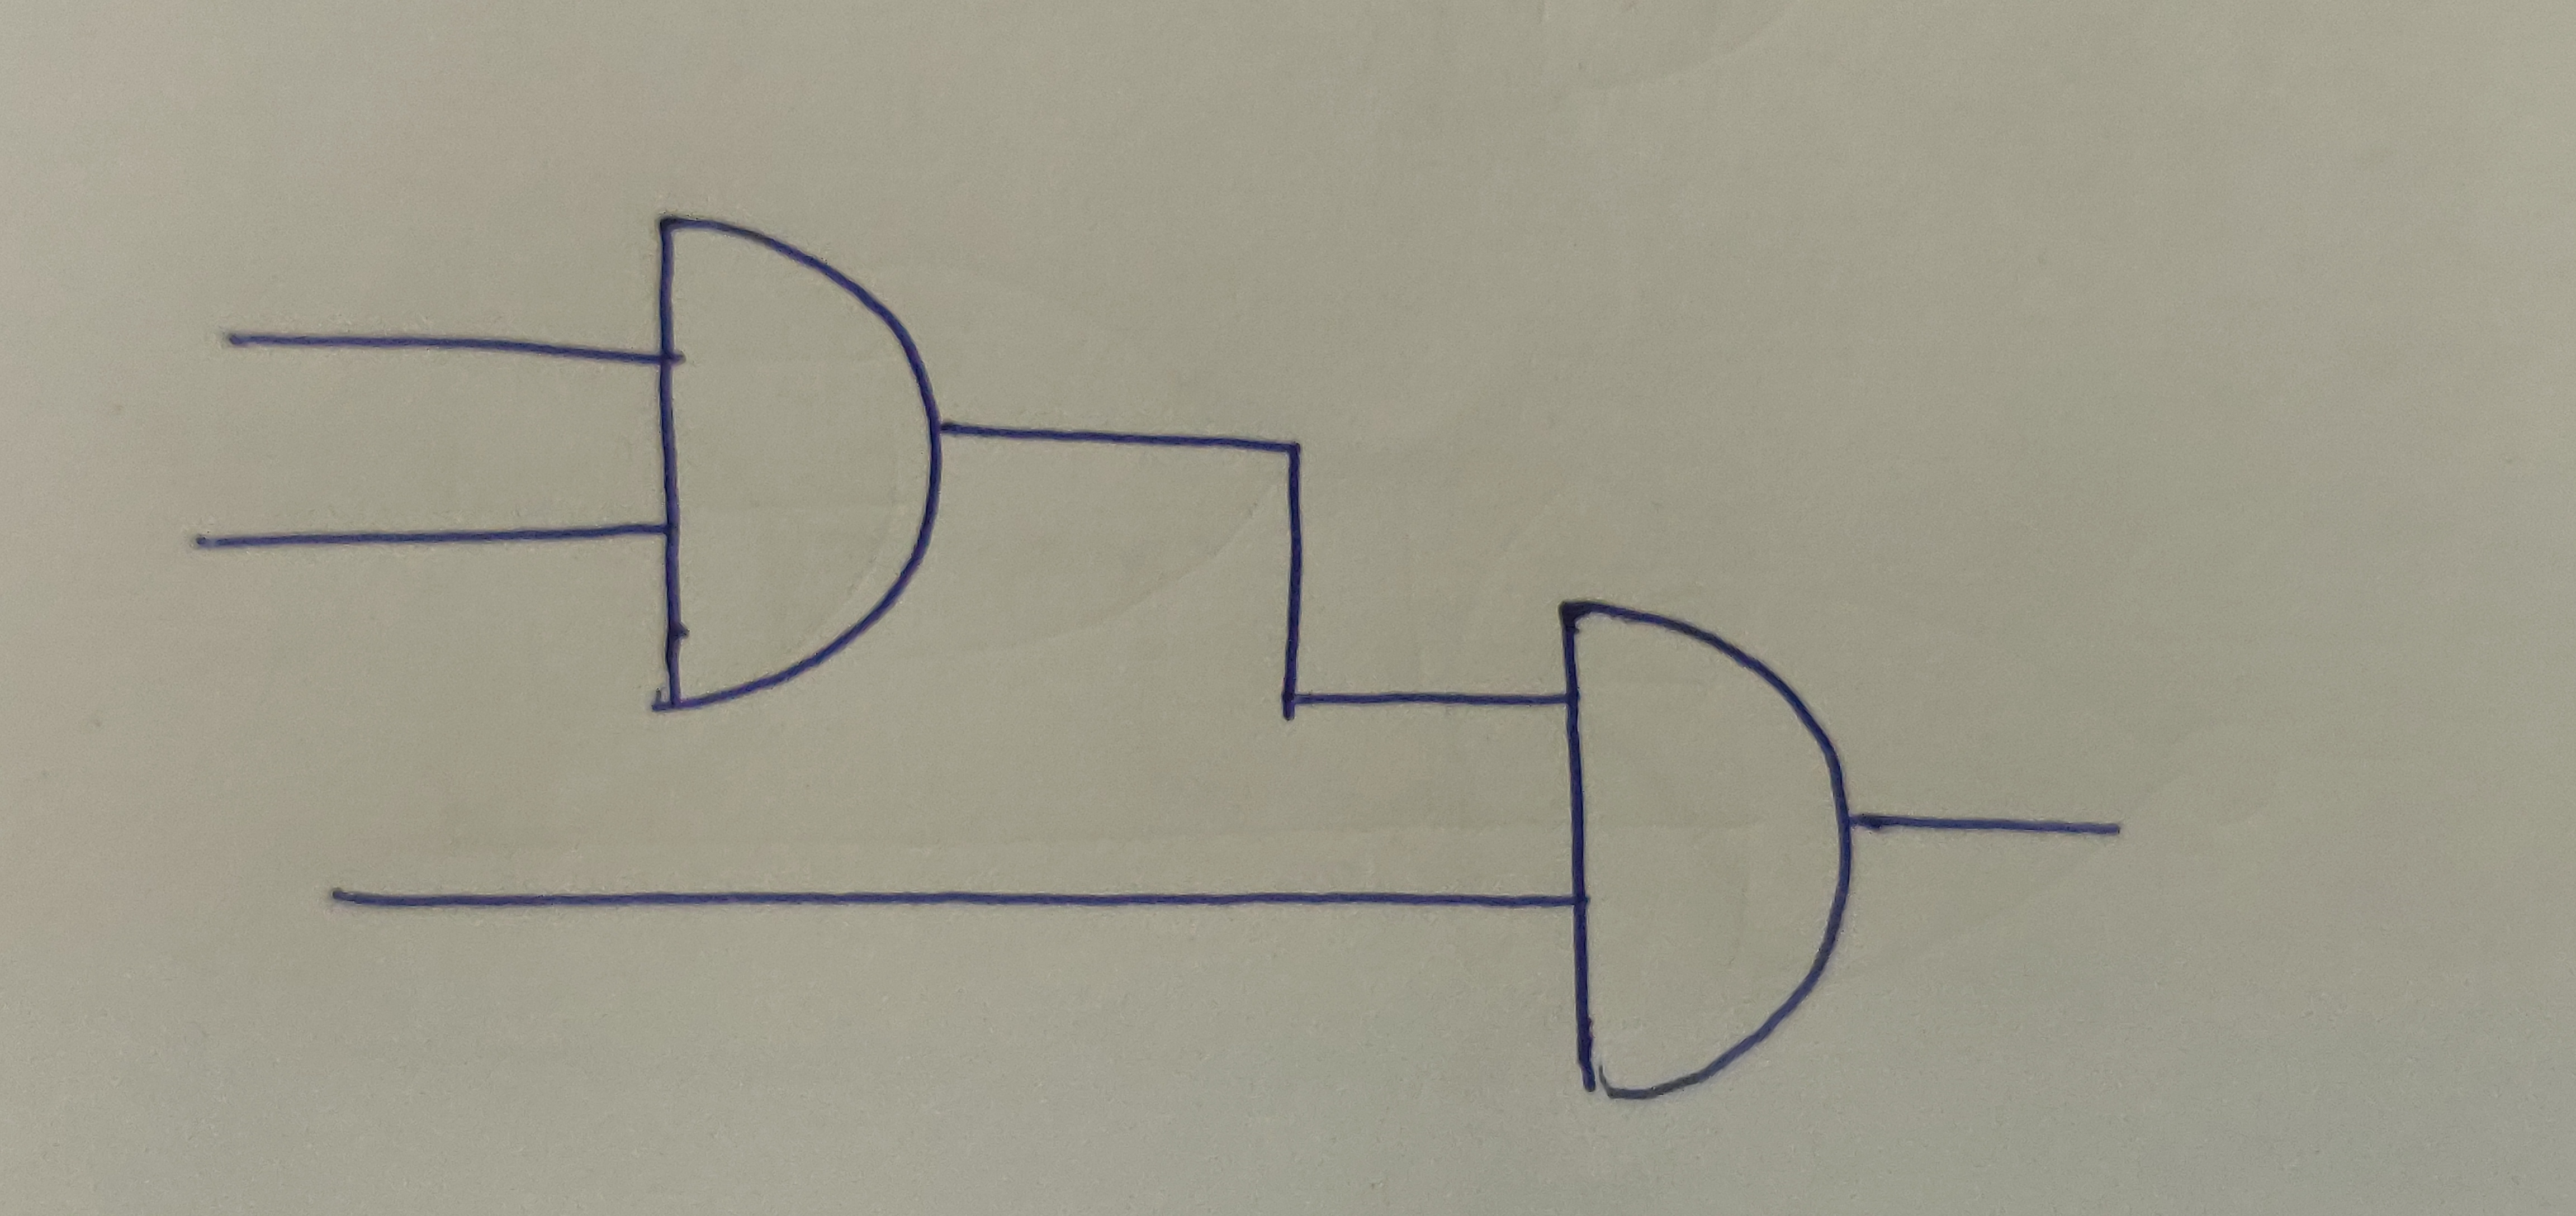and: (1559, 596, 1855, 1098), (656, 215, 945, 718)
